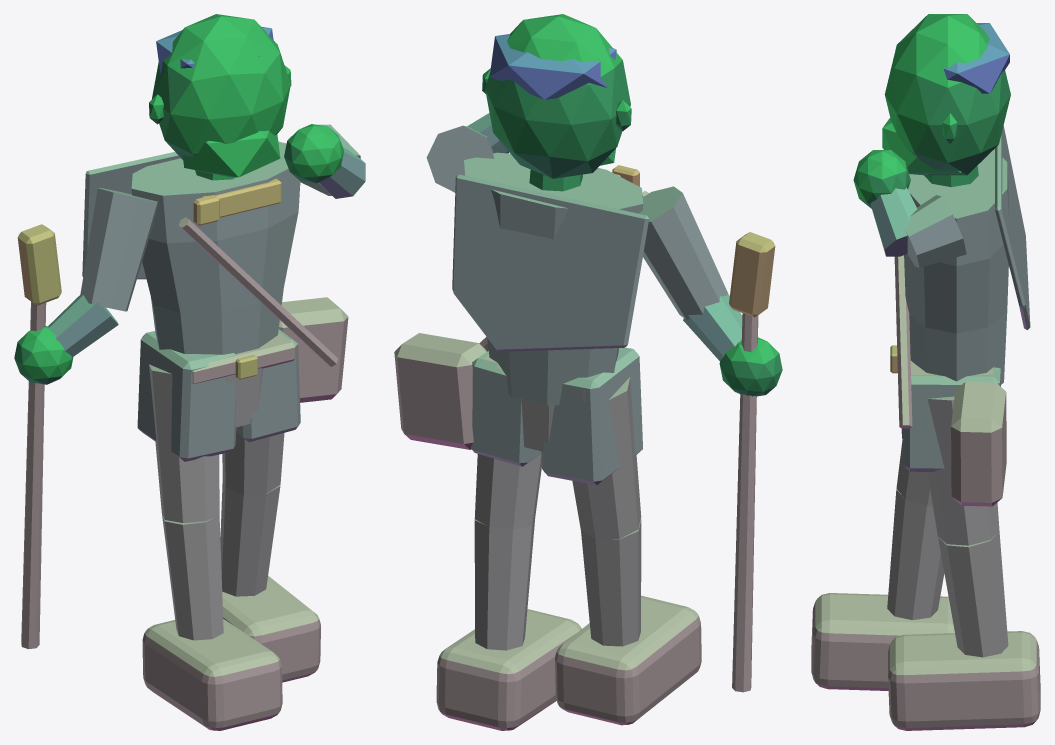
Rendered from npc_scout_work_v01.glb.
3 views of the same model, side by side, from view 1: azimuth 30°, elevation 25°; view 2: azimuth 150°, elevation 25°; view 3: azimuth 270°, elevation 25° (orthographic). The views are drawn at different scales.
Visible parts, largest first — view 1: GEO_npc_scout_work_v01; view 2: GEO_npc_scout_work_v01; view 3: GEO_npc_scout_work_v01.
Part boxes in pixels (x1,y1,x2,y2): GEO_npc_scout_work_v01: (14, 14, 365, 730); GEO_npc_scout_work_v01: (394, 14, 782, 730); GEO_npc_scout_work_v01: (811, 14, 1040, 730).
Bounding box in the file's own units: 1.12 × 2.06 × 0.6278.
